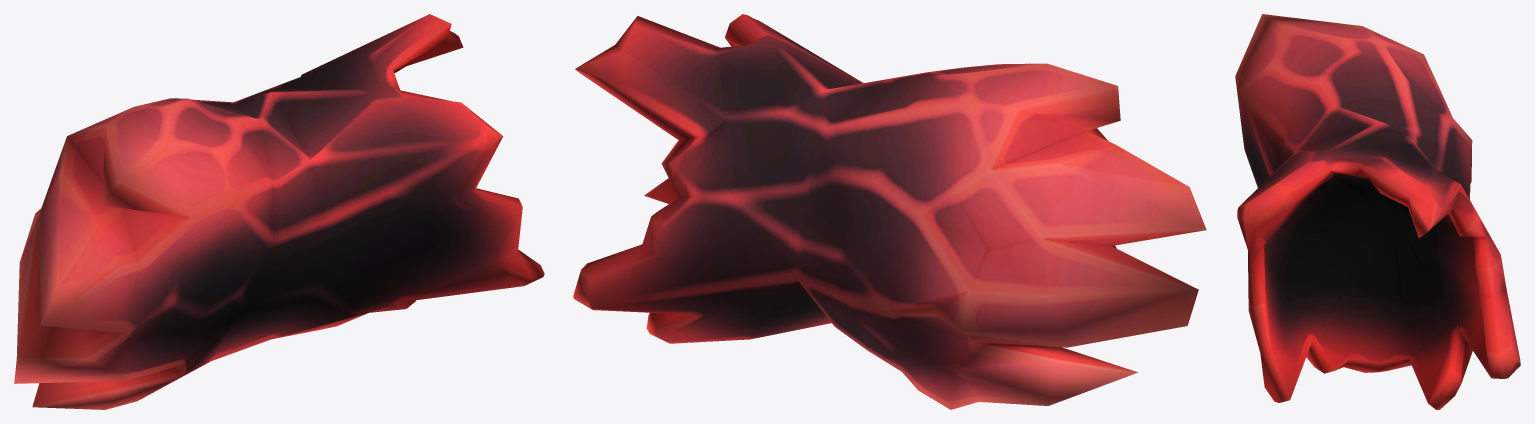
Rendered from item_weaknumgm2501-et02.glb.
3 renders of one model, left to right at view 1: azimuth 30°, elevation 25°; view 2: azimuth 150°, elevation 25°; view 3: azimuth 270°, elevation 25°, orthographic. The views are drawn at different scales.
Visible parts, largest first — view 1: FlyffMesh; view 2: FlyffMesh; view 3: FlyffMesh.
Boxes of the visible parts, bbox=[...] form: FlyffMesh: bbox=[14, 14, 544, 409]; FlyffMesh: bbox=[573, 14, 1206, 409]; FlyffMesh: bbox=[1235, 14, 1520, 409].
Bounding box in the file's own units: 0.6683 × 0.3619 × 0.3364.
Materials: 1 (1 with a texture image).
